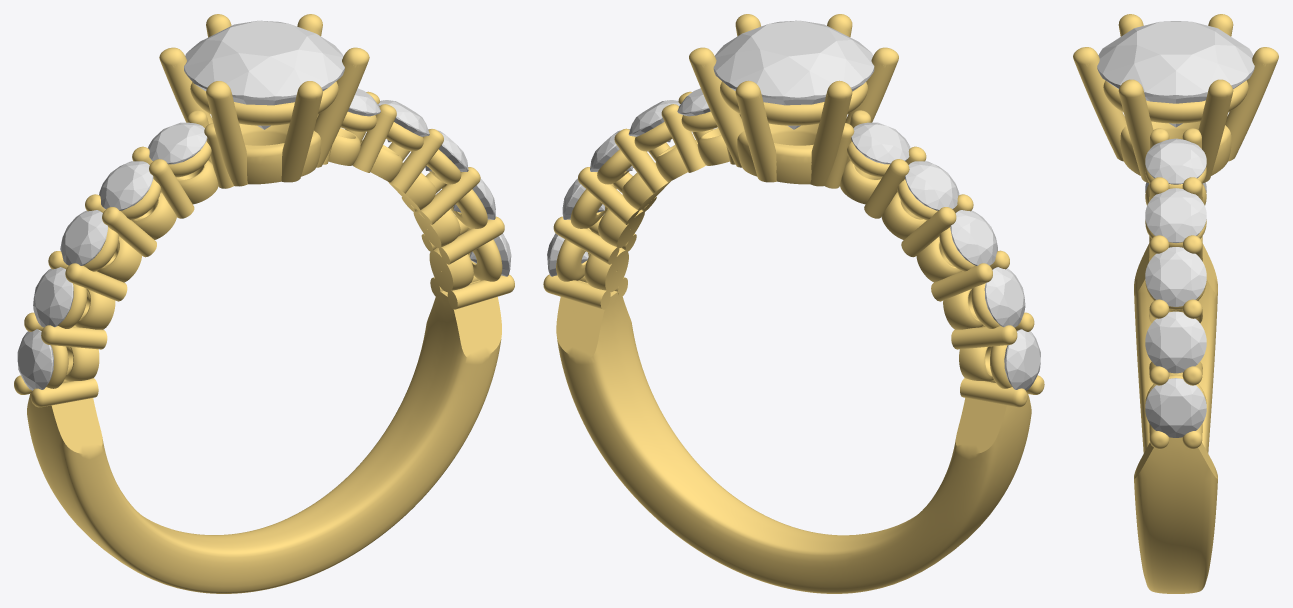
File: diamond-round-yellowgold-6prong-straighttaperedband-11stone.glb
The picture shows the model from 3 angles, left to right: view 1: azimuth 30°, elevation 25°; view 2: azimuth 150°, elevation 25°; view 3: azimuth 270°, elevation 25°; orthographic projection. The views are drawn at different scales.
Parts seen in each view (by area): view 1: metal, stone, side.002, side.003, side.001, side.004, side, side.008; view 2: metal, stone, side.002, side.003, side.001, side.004, side, side.008; view 3: metal, stone, side.006, side.007, side.005, side.008, side.009.
Part boxes in pixels (x1,y1,x2,y2): metal: (14,14,514,593); stone: (184,20,344,129); side.002: (60,210,107,265); side.003: (99,161,153,210); side.001: (33,267,73,327); side.004: (148,122,207,164); side: (17,329,53,390); side.008: (378,100,429,142); metal: (543,14,1044,593); stone: (713,20,874,129); side.002: (950,210,997,265); side.003: (905,161,959,210); side.001: (984,267,1025,327); side.004: (851,122,910,164); side: (1004,329,1040,390); side.008: (628,100,680,142); metal: (1073,14,1278,593); stone: (1097,21,1254,127); side.006: (1145,311,1206,373); side.007: (1145,247,1206,306); side.005: (1145,378,1206,437); side.008: (1145,188,1206,242); side.009: (1145,138,1206,184).
Bounding box in the file's own units: 22.07 × 23.82 × 8.35.
